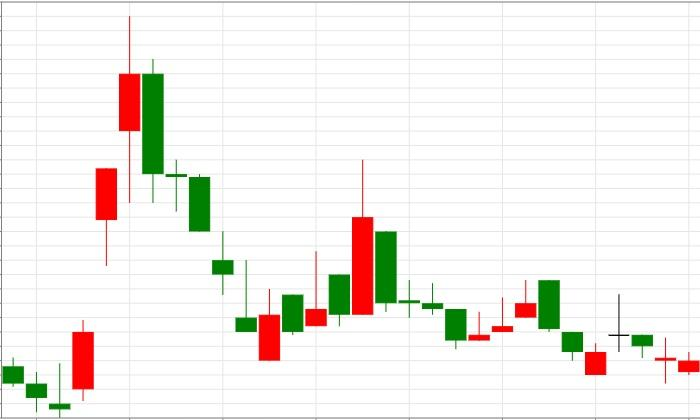bearish_engulfing_fall: (444, 281, 561, 350)
inverse_hammer_rise: (118, 16, 258, 332)
